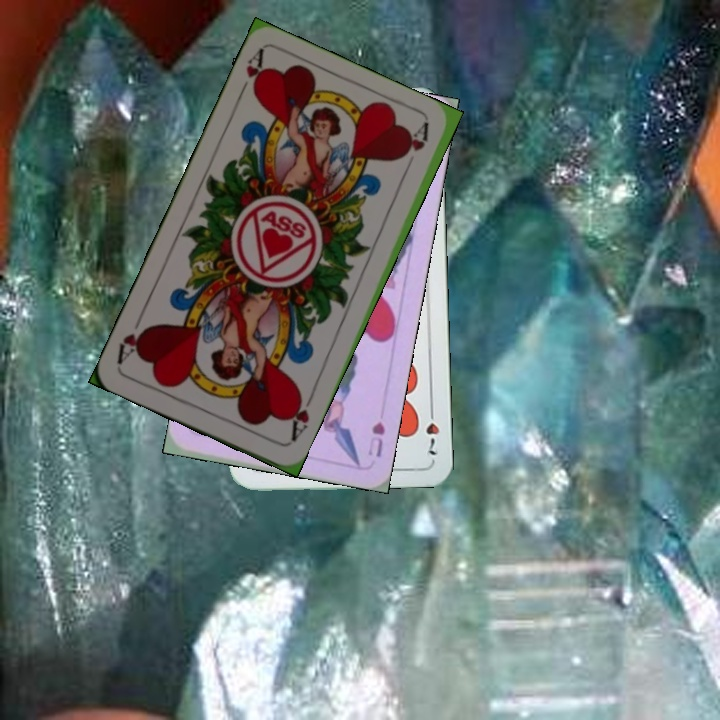H7: (422, 401, 442, 458)
HA: (233, 47, 270, 103), (284, 388, 317, 444)
HU: (363, 418, 388, 460)
